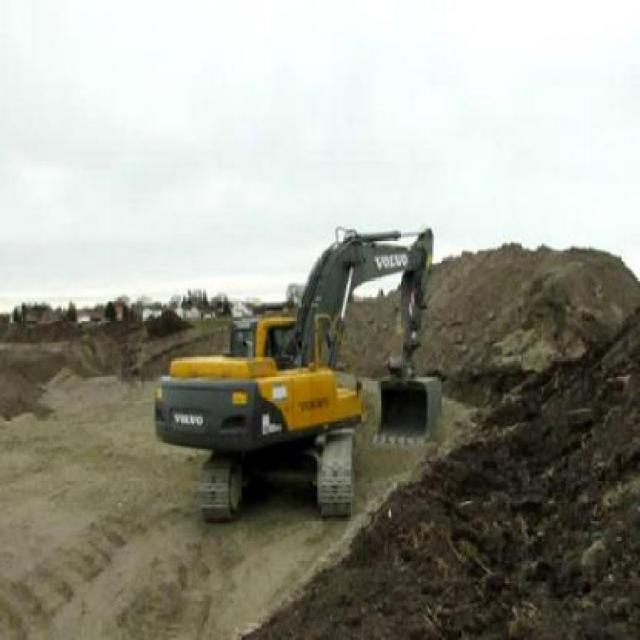Excavator: (154, 224, 440, 518)
